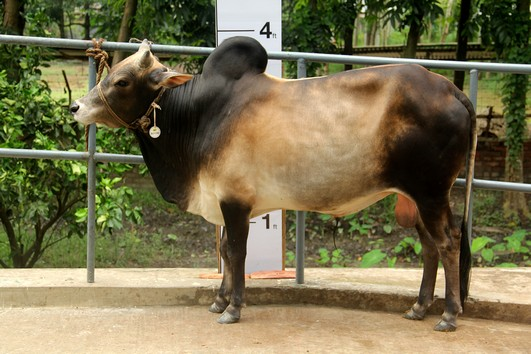cow: (65, 34, 481, 335)
